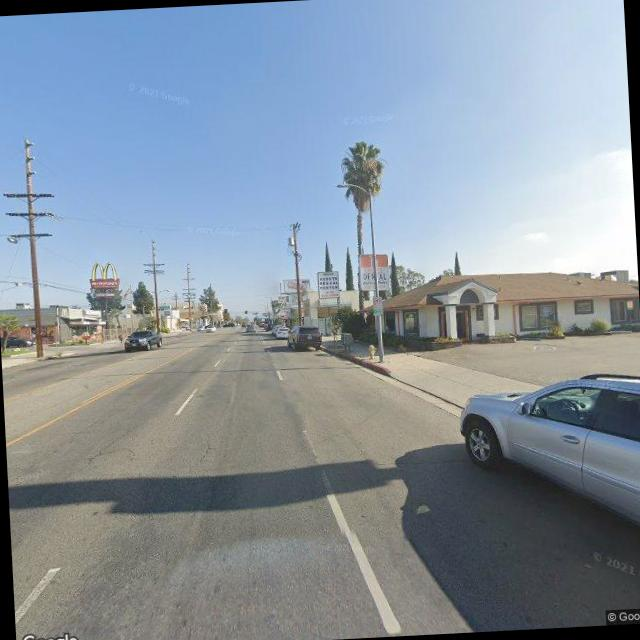pothole: (74, 420, 142, 472), (190, 429, 214, 470)
